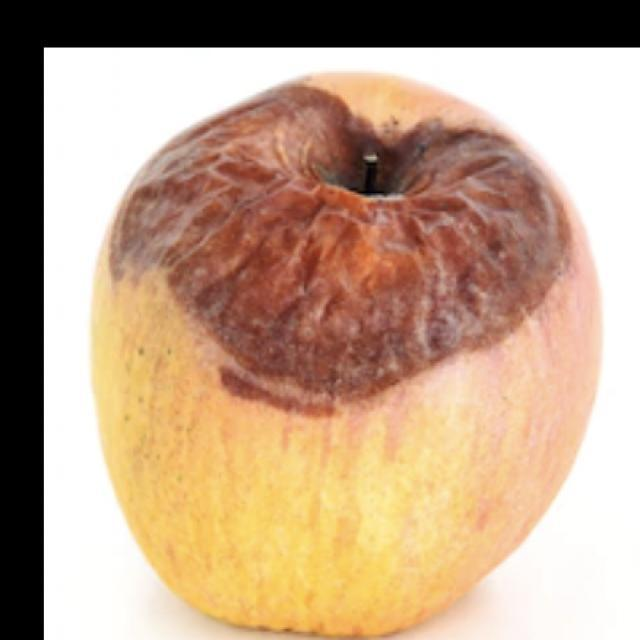Rotten: (95, 88, 578, 640)
